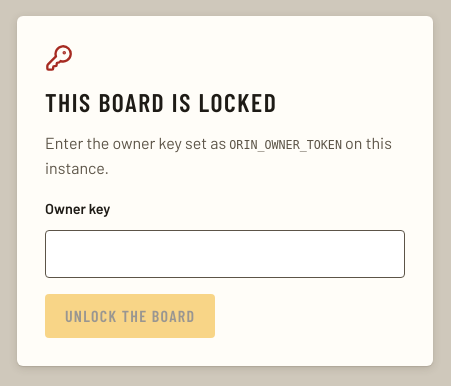
Scenario: owner session › shuts the board when unlocking finds no usable token
Expected: the heading "This board is locked" is shown, [45,86,277,117]
Type "synthetic-owner-key-for-tests-only" into the password field labelled "Owner key".
click(225, 254); type("synthetic-owner-key-for-tests-only")  # box [45,230,405,278]
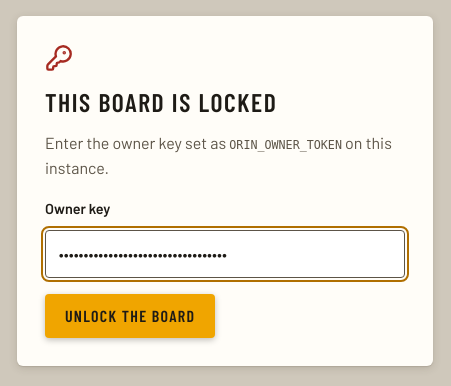
Click the button "Unlock the board".
click(130, 316)  # box [45,294,215,338]
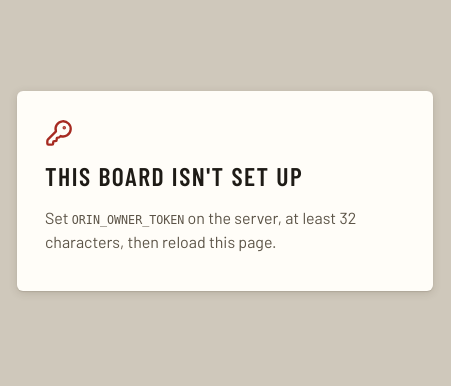
Expected: the heading "This board isn't set up" is shown, [45,160,303,191]
Expected: the field labelled "owner key" is gone
